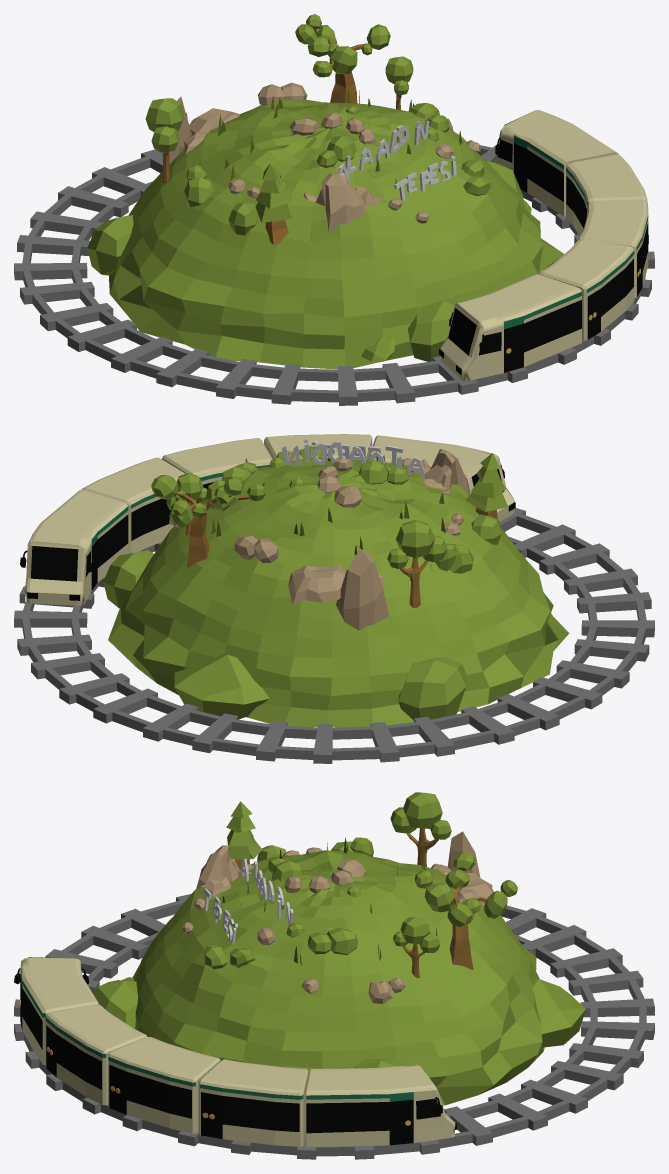
3 renders of one model, top to bottom at view 1: azimuth 30°, elevation 25°; view 2: azimuth 150°, elevation 25°; view 3: azimuth 270°, elevation 25°, orthographic.
Parts seen in each view (by area): view 1: shadeGreen, shadeGrey.002, shadeGrey.001, shadeGrey, shadeWhite, shadeDarkGreen; view 2: shadeGreen, shadeGrey.001, shadeGrey.002, shadeGrey, shadeWhite, shadeDarkGreen; view 3: shadeGreen, shadeGrey.002, shadeGrey.001, shadeGrey, shadeWhite.
Part boxes in pixels (bbox=[...]): shadeGreen: bbox=[87, 14, 563, 369]; shadeGrey.002: bbox=[439, 110, 648, 380]; shadeGrey.001: bbox=[14, 145, 654, 405]; shadeGrey: bbox=[162, 82, 480, 231]; shadeWhite: bbox=[337, 119, 456, 201]; shadeDarkGreen: bbox=[217, 88, 462, 183]; shadeGreen: bbox=[103, 446, 569, 727]; shadeGrey.001: bbox=[14, 508, 654, 763]; shadeGrey.002: bbox=[20, 434, 515, 605]; shadeGrey: bbox=[169, 449, 469, 630]; shadeWhite: bbox=[282, 439, 424, 478]; shadeDarkGreen: bbox=[207, 455, 445, 555]; shadeGreen: bbox=[93, 792, 585, 1105]; shadeGrey.002: bbox=[14, 957, 456, 1147]; shadeGrey.001: bbox=[14, 894, 654, 1159]; shadeGrey: bbox=[182, 831, 493, 1003]; shadeWhite: bbox=[203, 858, 293, 943].
Bounding box in the file's own units: 19.33 × 6.83 × 19.33.
